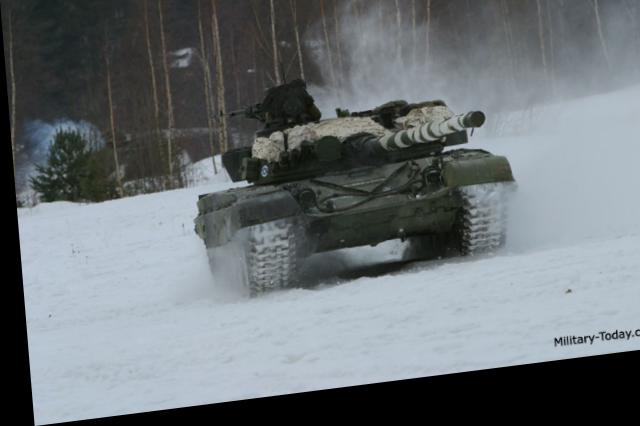tank: (193, 107, 503, 295)
